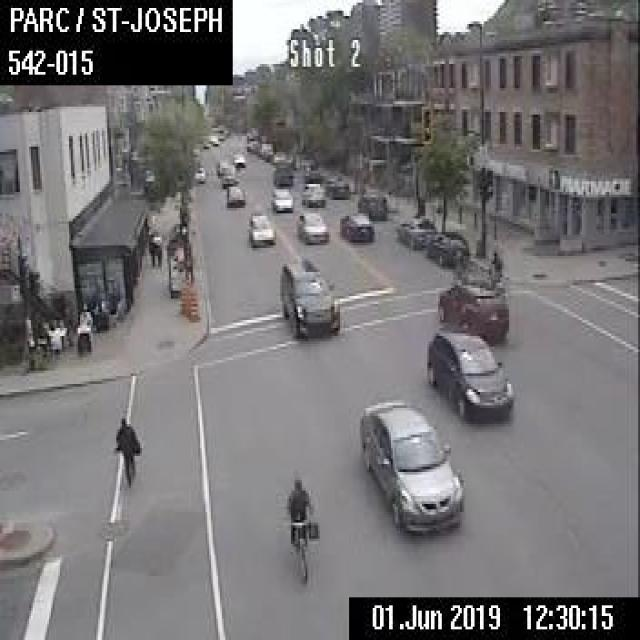construction: (189, 287, 198, 320), (178, 278, 186, 312)
cyclist: (284, 474, 316, 578)
pedestrian: (113, 416, 140, 485), (74, 301, 91, 355), (146, 228, 154, 266), (153, 231, 161, 265)
vehicle: (358, 397, 464, 531), (424, 324, 513, 419), (275, 256, 338, 339), (436, 280, 507, 340), (423, 230, 468, 264), (396, 214, 436, 248), (296, 210, 326, 243), (247, 211, 275, 245), (356, 186, 385, 218), (340, 212, 373, 240), (324, 171, 348, 198), (299, 181, 324, 205), (271, 184, 291, 212), (271, 159, 291, 185), (224, 183, 243, 206), (220, 164, 237, 186), (304, 160, 318, 180), (245, 131, 257, 149), (193, 166, 205, 182), (232, 152, 244, 166), (215, 159, 226, 174)
